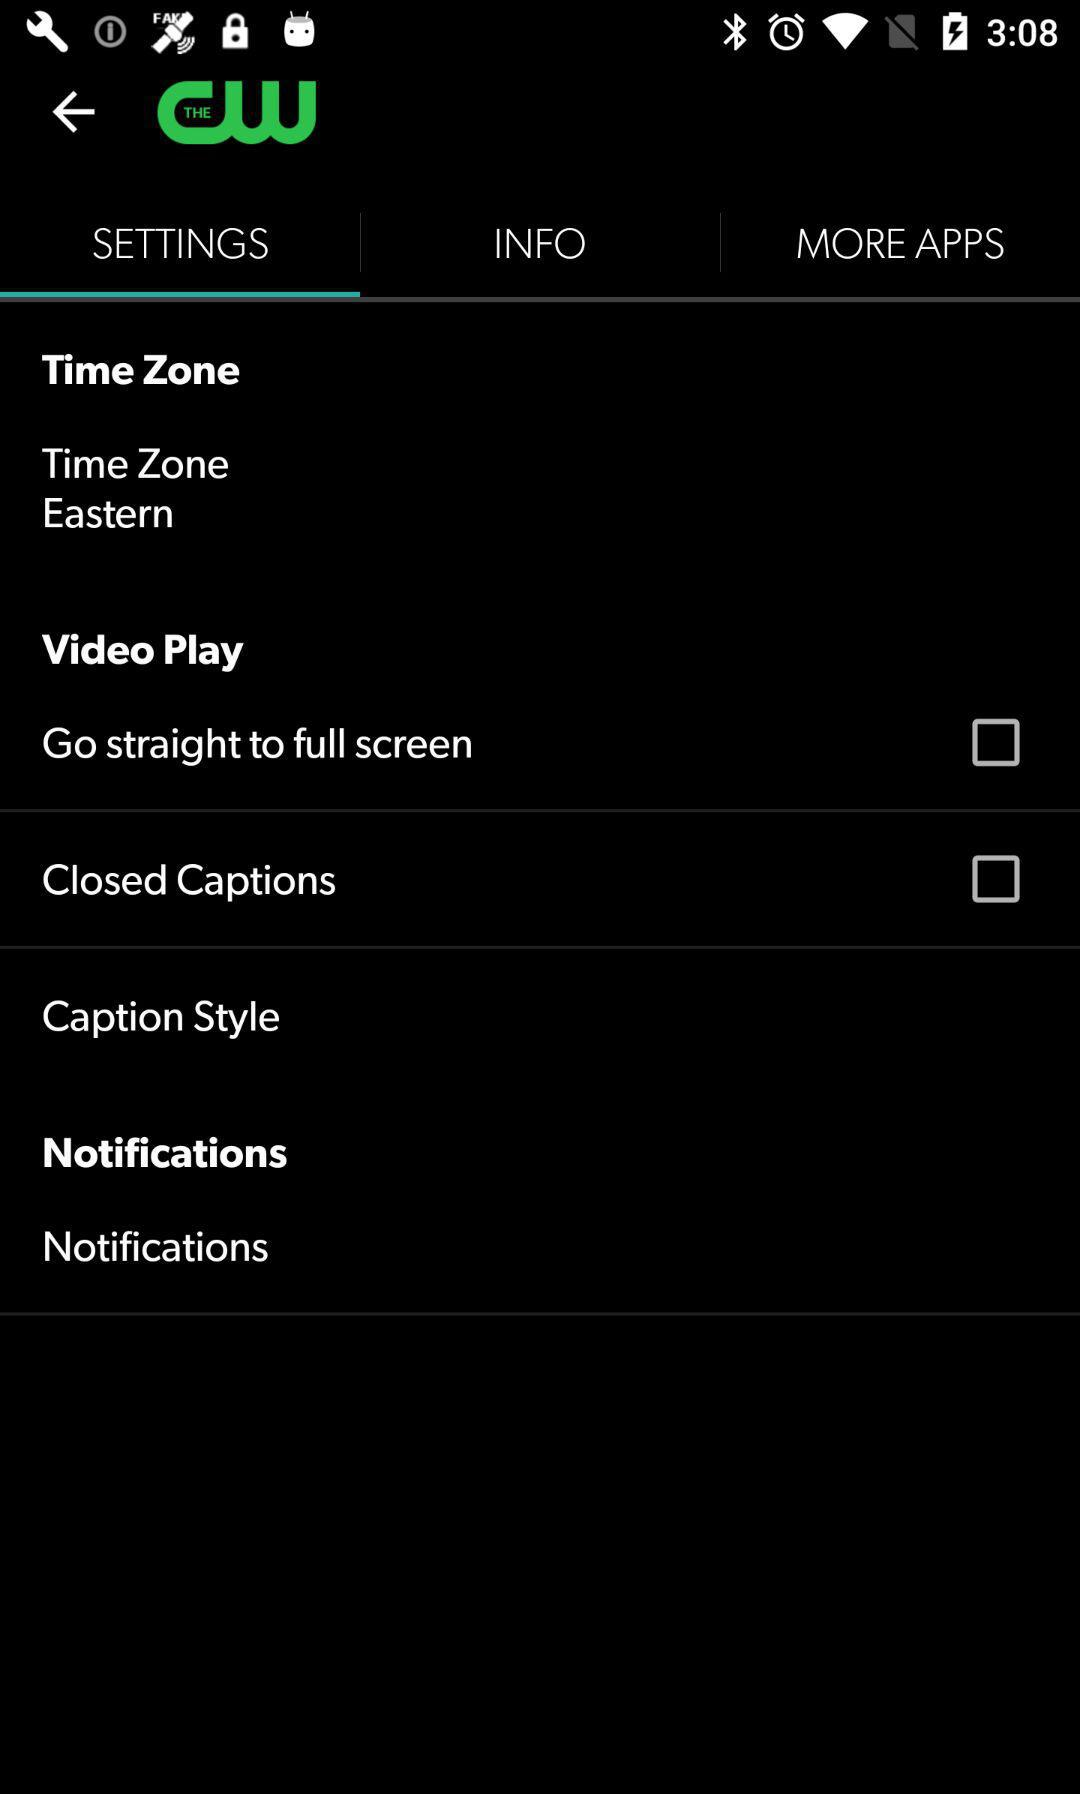CheckedTextView: (44, 718, 1021, 768), (44, 855, 1021, 905)
Icon: (53, 90, 97, 135)
Image: (156, 79, 318, 147)
Text: (44, 727, 473, 768), (44, 862, 337, 903), (44, 1000, 281, 1041), (44, 1135, 288, 1170), (44, 633, 246, 674), (45, 1229, 270, 1263), (797, 227, 1004, 261), (42, 352, 241, 387), (42, 447, 231, 481), (94, 228, 270, 261), (45, 497, 174, 531), (496, 227, 587, 261)
UpperTaskBar: (1, 1, 1080, 64)
